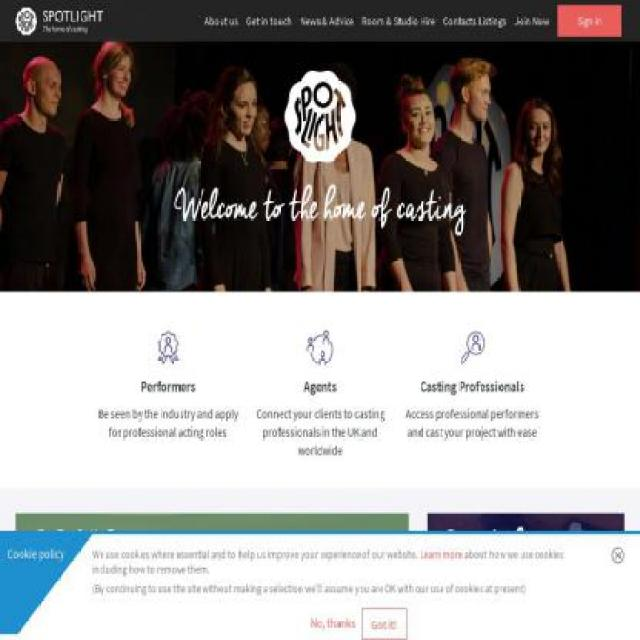button: (15, 7, 103, 36), (557, 5, 621, 37)
field: (362, 608, 408, 640)
